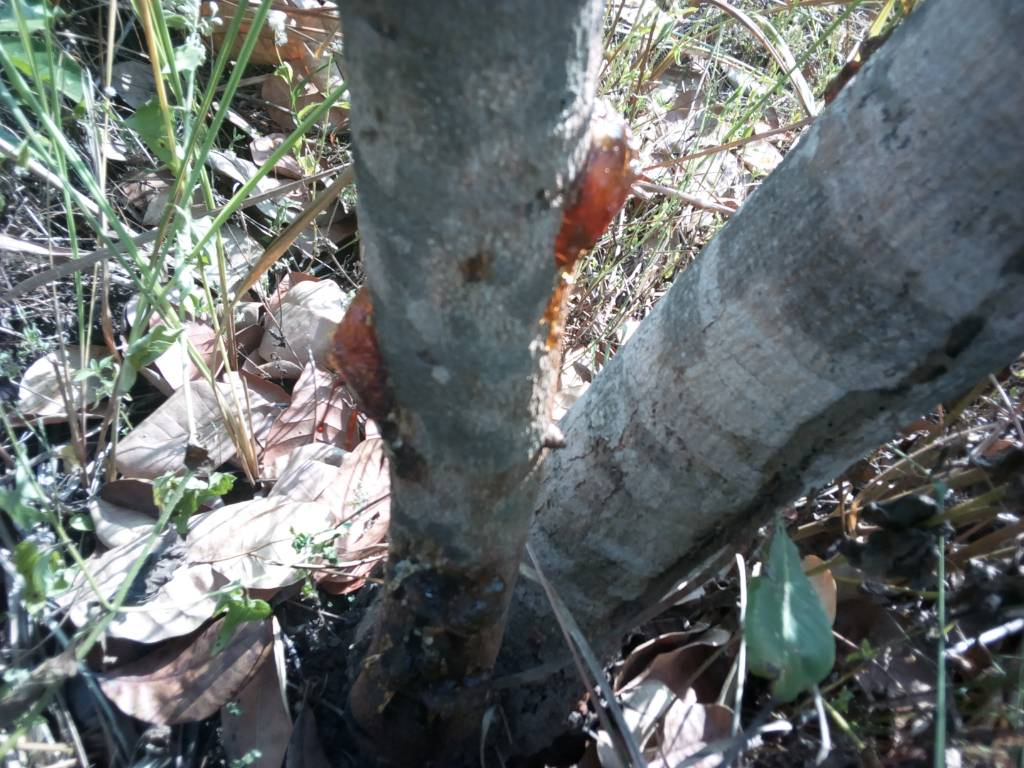Mecocorynus longiceps: (524, 94, 655, 373), (299, 283, 426, 454)
